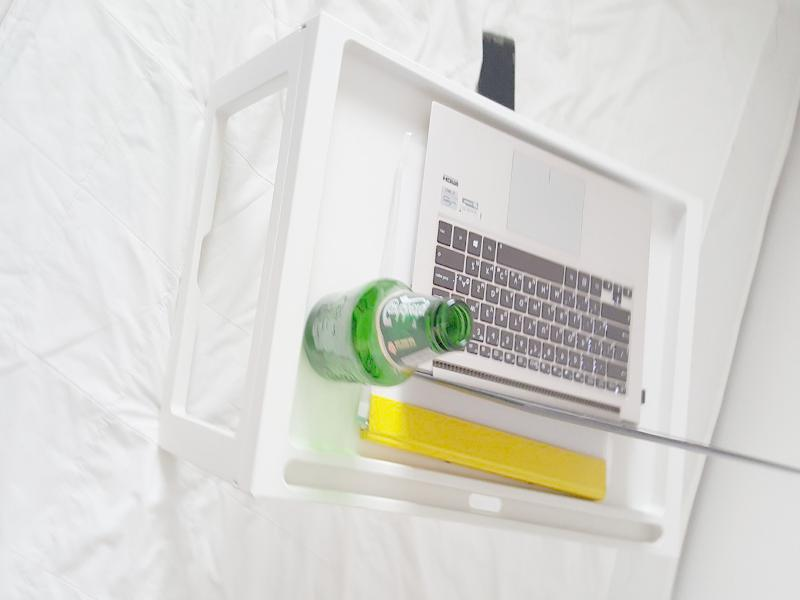Beer: (303, 280, 471, 385)
